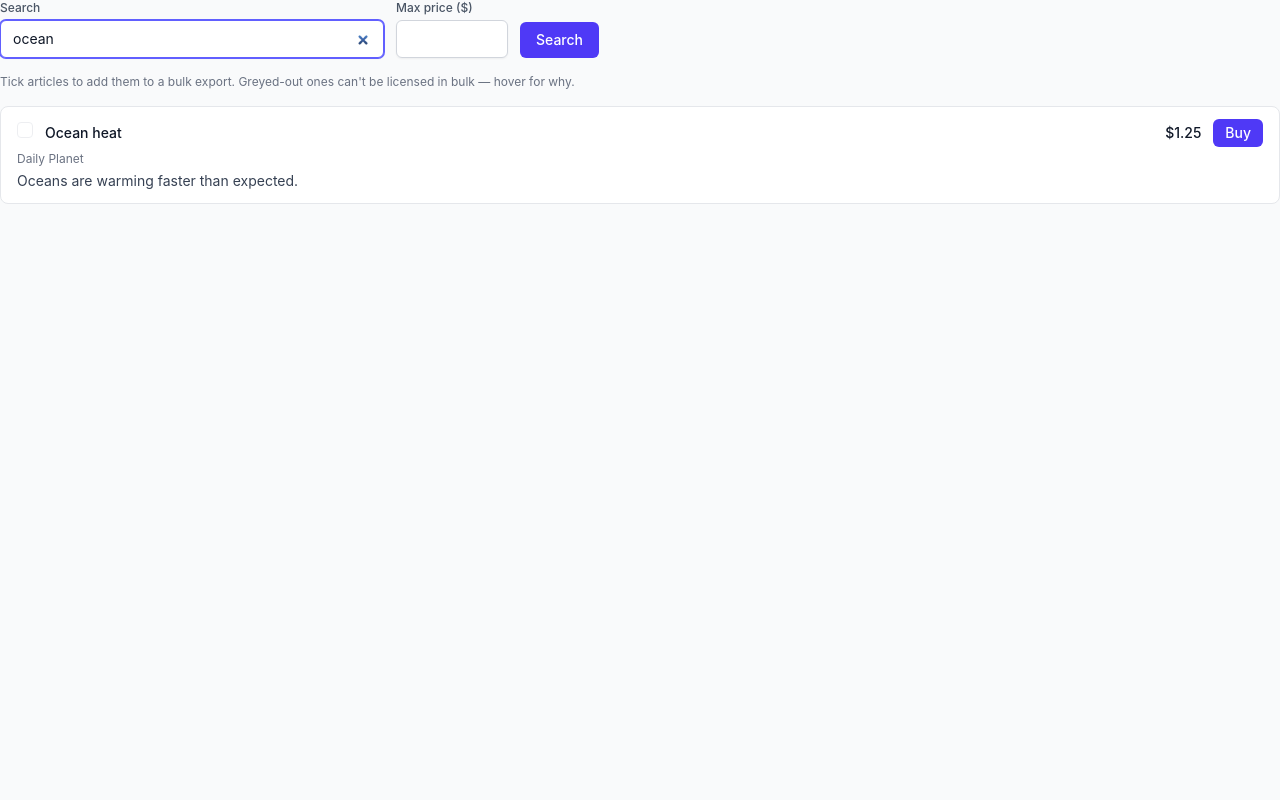
Test: ContentSearch › buying a result › Buy opens a confirmation for that result; Cancel closes it and buys nothing
The image size is (1280, 800).
Click the button with aria-label "Buy Ocean heat" at (1238, 133), box [1213,119,1263,147]
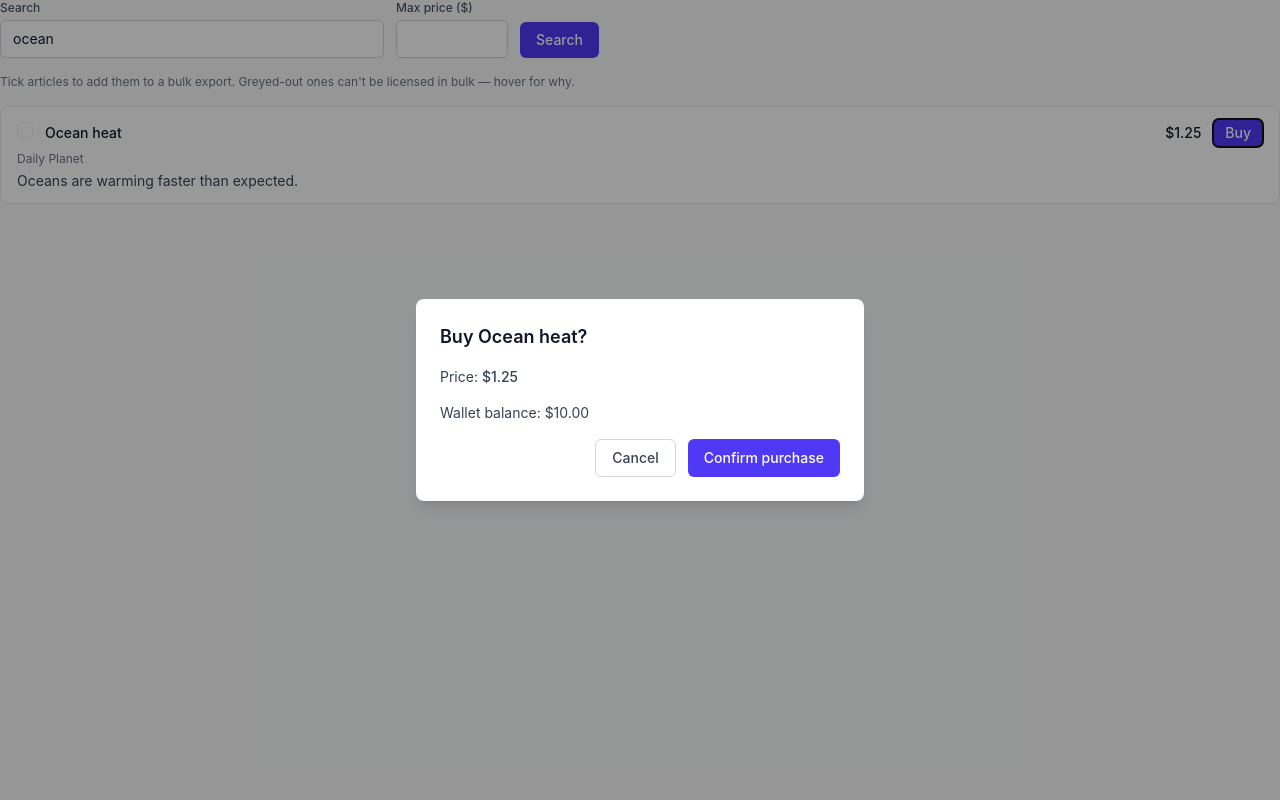
Check: the dialog shows "Buy Ocean heat?", box [416,299,864,501]
Check: the text "Wallet balance: $10.00" is shown, box [440,404,589,421]
Click the button "Cancel" at (636, 458), box [595,439,676,477]
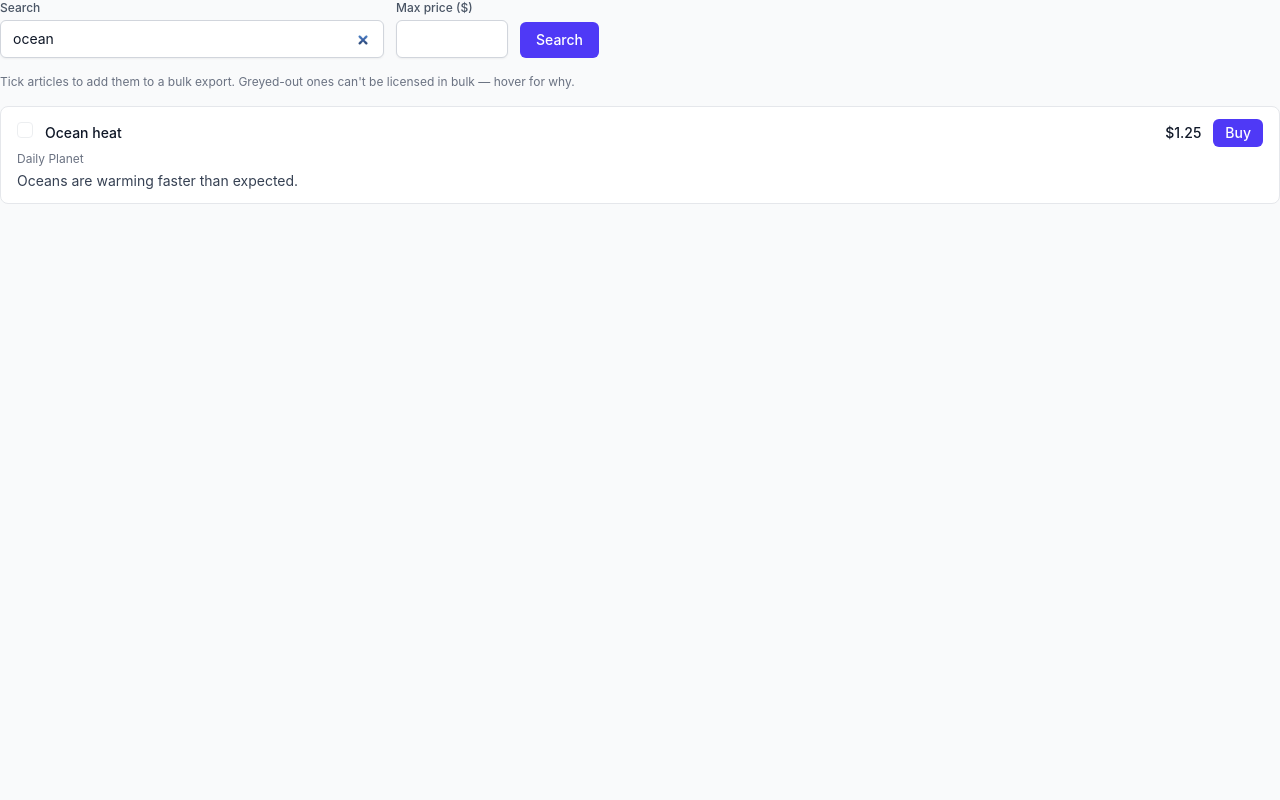
Check: the dialog is gone
